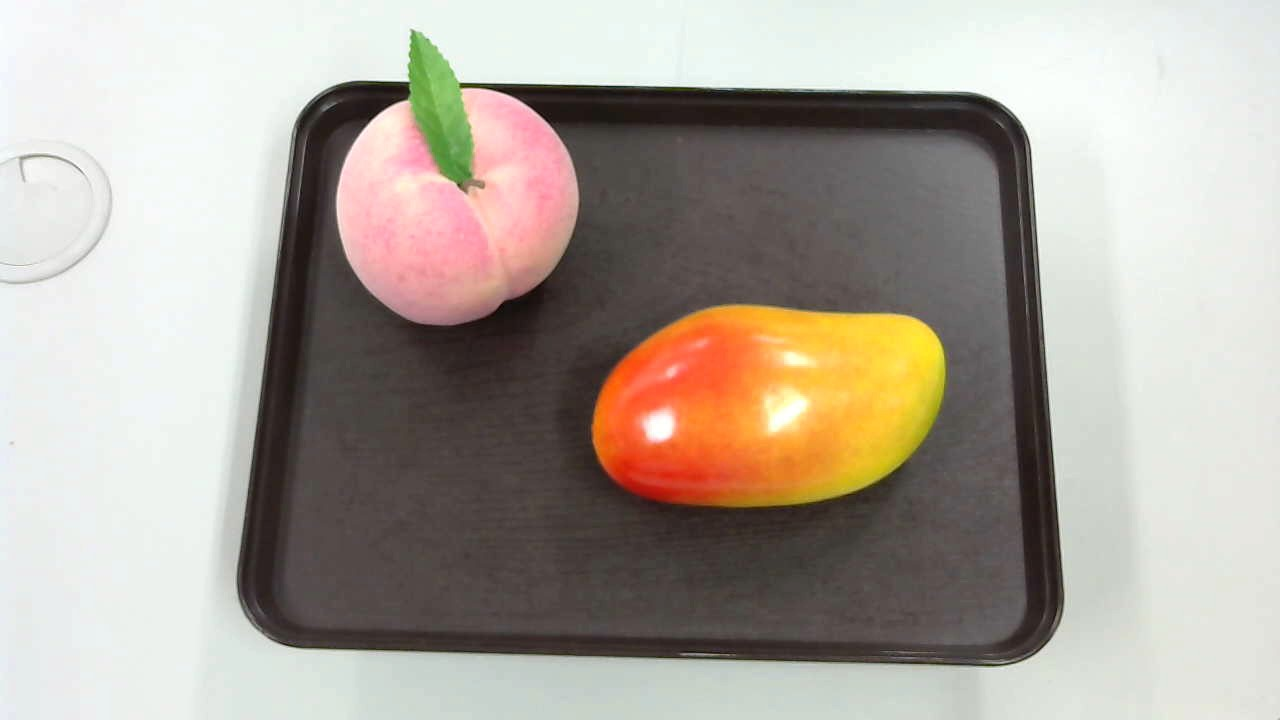peach: (330, 23, 582, 330)
red mango: (586, 300, 954, 514)
